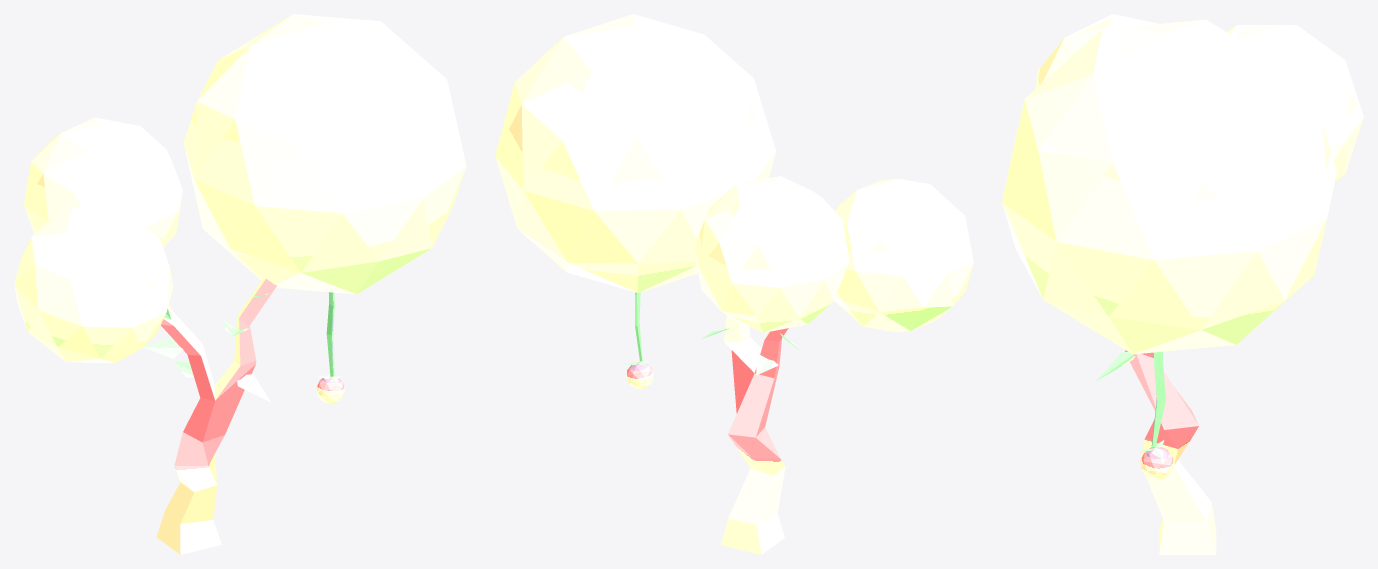
The model's file is golden_plant.glb.
3 views of the same model, side by side, from view 1: azimuth 30°, elevation 25°; view 2: azimuth 150°, elevation 25°; view 3: azimuth 270°, elevation 25° (orthographic). The views are drawn at different scales.
Parts seen in each view (by area): view 1: Icosphere.003, Icosphere.001, Icosphere.002, Cube, Icosphere, Cube.001; view 2: Icosphere.003, Icosphere.002, Icosphere.001, Cube, Icosphere; view 3: Icosphere.003, Cube, Icosphere.002, Icosphere.001, Icosphere, Cube.001.
Part boxes in pixels (x1,y1,x2,y2): Icosphere.003: (183, 14, 466, 294); Icosphere.001: (14, 208, 173, 362); Icosphere.002: (24, 117, 182, 247); Cube: (156, 278, 277, 554); Icosphere: (316, 377, 344, 403); Cube.001: (326, 292, 334, 376); Icosphere.003: (495, 14, 775, 292); Icosphere.002: (694, 176, 849, 332); Icosphere.001: (834, 179, 973, 331); Cube: (721, 315, 788, 554); Icosphere: (626, 362, 653, 389); Icosphere.003: (1002, 19, 1336, 354); Cube: (1124, 350, 1216, 554); Icosphere.002: (1227, 25, 1363, 181); Icosphere.001: (1035, 14, 1158, 88); Icosphere: (1140, 447, 1174, 480); Cube.001: (1151, 351, 1165, 447).
Size of the model in its own units: 35.12 by 37.39 by 20.93.
